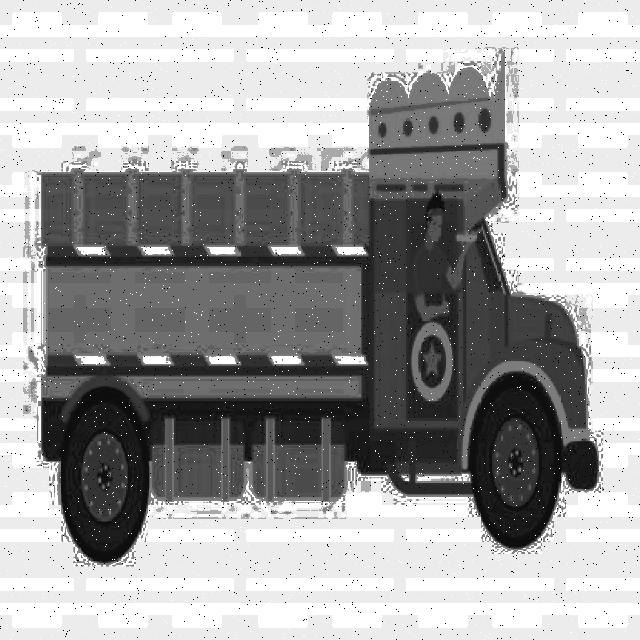HCV: (40, 103, 592, 524)
